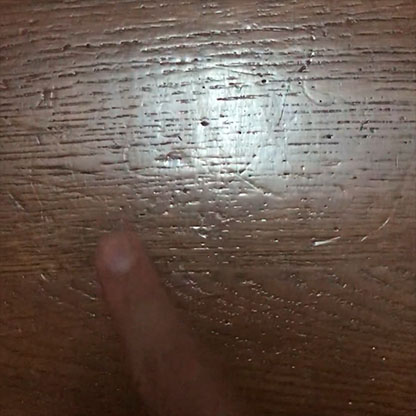fingertip: (86, 222, 155, 290)
